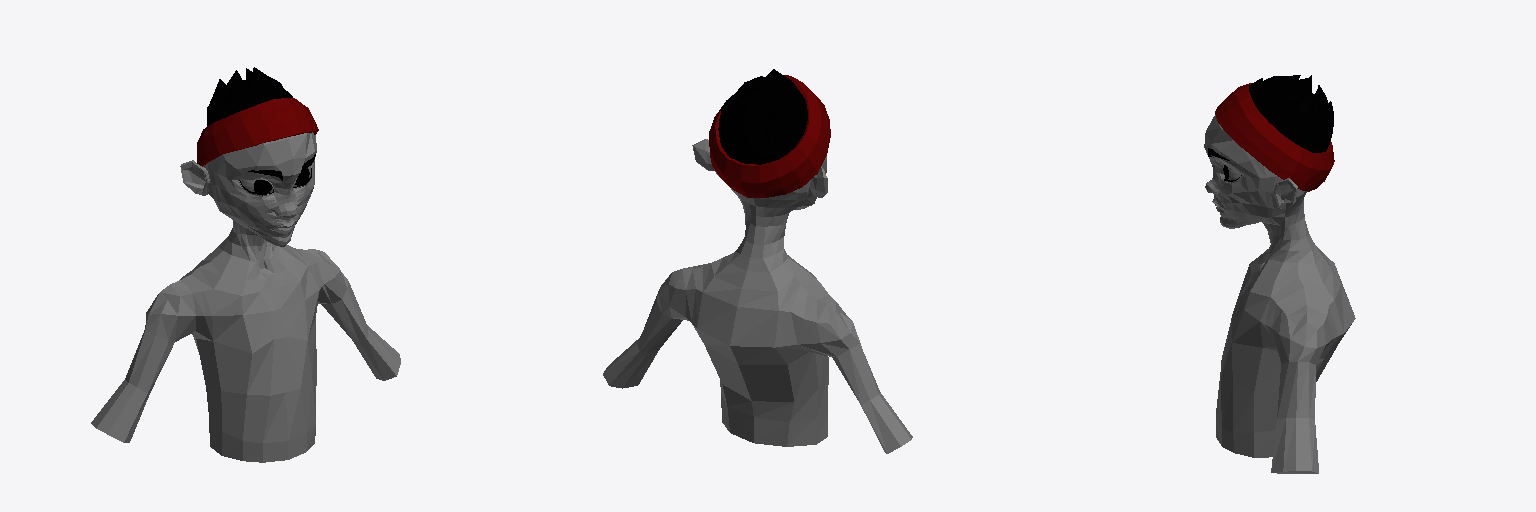
File: BOYWIP.obj
The picture shows the model from 3 angles: view 1: azimuth 30°, elevation 25°; view 2: azimuth 150°, elevation 25°; view 3: azimuth 270°, elevation 25°; orthographic projection.
Parts seen in each view (by area): view 1: Face, HeadBand, Hair; view 2: Face, Hair, HeadBand; view 3: Face, HeadBand, Hair.
Boxes of the visible parts, box(x1,y1,x2,y2) form: Face: box(91, 132, 400, 462); HeadBand: box(197, 98, 318, 166); Hair: box(207, 67, 292, 125); Face: box(603, 139, 912, 453); Hair: box(718, 69, 807, 164); HeadBand: box(709, 75, 830, 197); Face: box(1204, 115, 1355, 473); HeadBand: box(1215, 83, 1334, 191); Hair: box(1249, 75, 1333, 152).
Size of the model in its own units: 3.65 by 4.15 by 1.58.